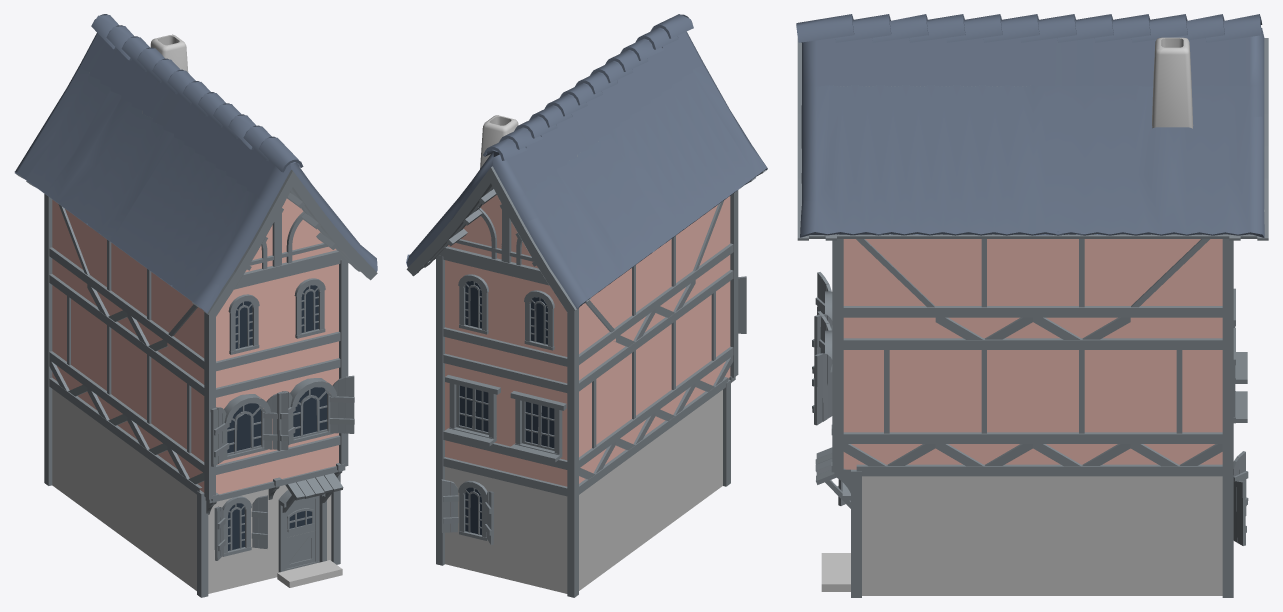
The model's file is row_townhouse.gltf.
The picture shows the model from 3 angles, left to right: view 1: azimuth 30°, elevation 25°; view 2: azimuth 150°, elevation 25°; view 3: azimuth 270°, elevation 25°; orthographic projection. The views are drawn at different scales.
Parts seen in each view (by area): view 1: Roof_RoundTiles_4x8.071, Wall_Plaster_Window_Thin_Round+upper.053, Roof_Front_Brick4.072, Wall_Plaster_Straight+upper.040, Wall_Plaster_Straight+upper.041, Wall_Plaster_Window_Thin_Round+upper.051, Wall_UnevenBrick_Straight.012, Wall_UnevenBrick_Straight.013, Wall_Plaster_Straight+upper.039, Wall_UnevenBrick_Straight.011, Wall_Plaster_Straight+upper.042, Wall_UnevenBrick_Straight.014 (+30 smaller); view 2: Roof_RoundTiles_4x8.071, Wall_UnevenBrick_Straight.010, Wall_Plaster_Window_Thin_Round+upper.055, Roof_Front_Brick4.073, Wall_UnevenBrick_Window_Thin_Round.007, Wall_Plaster_Straight+upper.041, Wall_UnevenBrick_Straight.012, Wall_UnevenBrick_Straight.013, Wall_Plaster_Straight+upper.040, Wall_Plaster_Window_Thin_Round+upper.057, Wall_Plaster_Straight+upper.042, Wall_UnevenBrick_Straight.014 (+25 smaller); view 3: Roof_RoundTiles_4x8.071, Wall_Plaster_Straight+upper.044, Wall_Plaster_Straight+upper.045, Wall_UnevenBrick_Straight.017, Wall_UnevenBrick_Straight.016, Wall_Plaster_Straight+upper.043, Wall_Plaster_Straight+upper.046, Wall_UnevenBrick_Straight.015, Wall_UnevenBrick_Straight.018, Wall_Plaster_Straight+upper.065, Wall_Plaster_Straight+upper.064, Wall_Plaster_Straight_L+upper.063 (+14 smaller).
Boxes of the visible parts, x1,y1,x2,y2 form: Roof_RoundTiles_4x8.071: [14, 14, 377, 317]; Wall_Plaster_Window_Thin_Round+upper.053: [276, 260, 340, 373]; Roof_Front_Brick4.072: [236, 192, 345, 285]; Wall_Plaster_Straight+upper.040: [87, 301, 129, 433]; Wall_Plaster_Straight+upper.041: [127, 331, 169, 463]; Wall_Plaster_Window_Thin_Round+upper.051: [216, 276, 277, 387]; Wall_UnevenBrick_Straight.012: [85, 404, 126, 539]; Wall_UnevenBrick_Straight.013: [123, 432, 164, 566]; Wall_Plaster_Straight+upper.039: [49, 274, 89, 404]; Wall_UnevenBrick_Straight.011: [49, 377, 87, 511]; Wall_Plaster_Straight+upper.042: [167, 360, 204, 492]; Wall_UnevenBrick_Straight.014: [161, 459, 201, 590]; Roof_RoundTiles_4x8.071: [406, 14, 767, 313]; Wall_UnevenBrick_Straight.010: [505, 472, 567, 593]; Wall_Plaster_Window_Thin_Round+upper.055: [443, 256, 507, 368]; Roof_Front_Brick4.073: [438, 189, 546, 281]; Wall_UnevenBrick_Window_Thin_Round.007: [443, 457, 507, 579]; Wall_Plaster_Straight+upper.041: [653, 297, 695, 429]; Wall_UnevenBrick_Straight.012: [611, 432, 652, 567]; Wall_UnevenBrick_Straight.013: [649, 405, 690, 539]; Wall_Plaster_Straight+upper.040: [613, 326, 655, 458]; Wall_Plaster_Window_Thin_Round+upper.057: [505, 272, 567, 383]; Wall_Plaster_Straight+upper.042: [693, 270, 733, 399]; Wall_UnevenBrick_Straight.014: [687, 377, 728, 511]; Roof_RoundTiles_4x8.071: [796, 14, 1268, 240]; Wall_Plaster_Straight+upper.044: [935, 338, 1032, 466]; Wall_Plaster_Straight+upper.045: [1033, 338, 1130, 466]; Wall_UnevenBrick_Straight.017: [1042, 464, 1135, 595]; Wall_UnevenBrick_Straight.016: [949, 464, 1042, 595]; Wall_Plaster_Straight+upper.043: [843, 338, 935, 469]; Wall_Plaster_Straight+upper.046: [1130, 338, 1222, 466]; Wall_UnevenBrick_Straight.015: [856, 464, 949, 595]; Wall_UnevenBrick_Straight.018: [1135, 464, 1222, 595]; Wall_Plaster_Straight+upper.065: [1033, 239, 1130, 339]; Wall_Plaster_Straight+upper.064: [935, 239, 1032, 339]; Wall_Plaster_Straight_L+upper.063: [843, 239, 935, 338].
Size of the model in its own units: 5.51 by 12.84 by 10.17.
